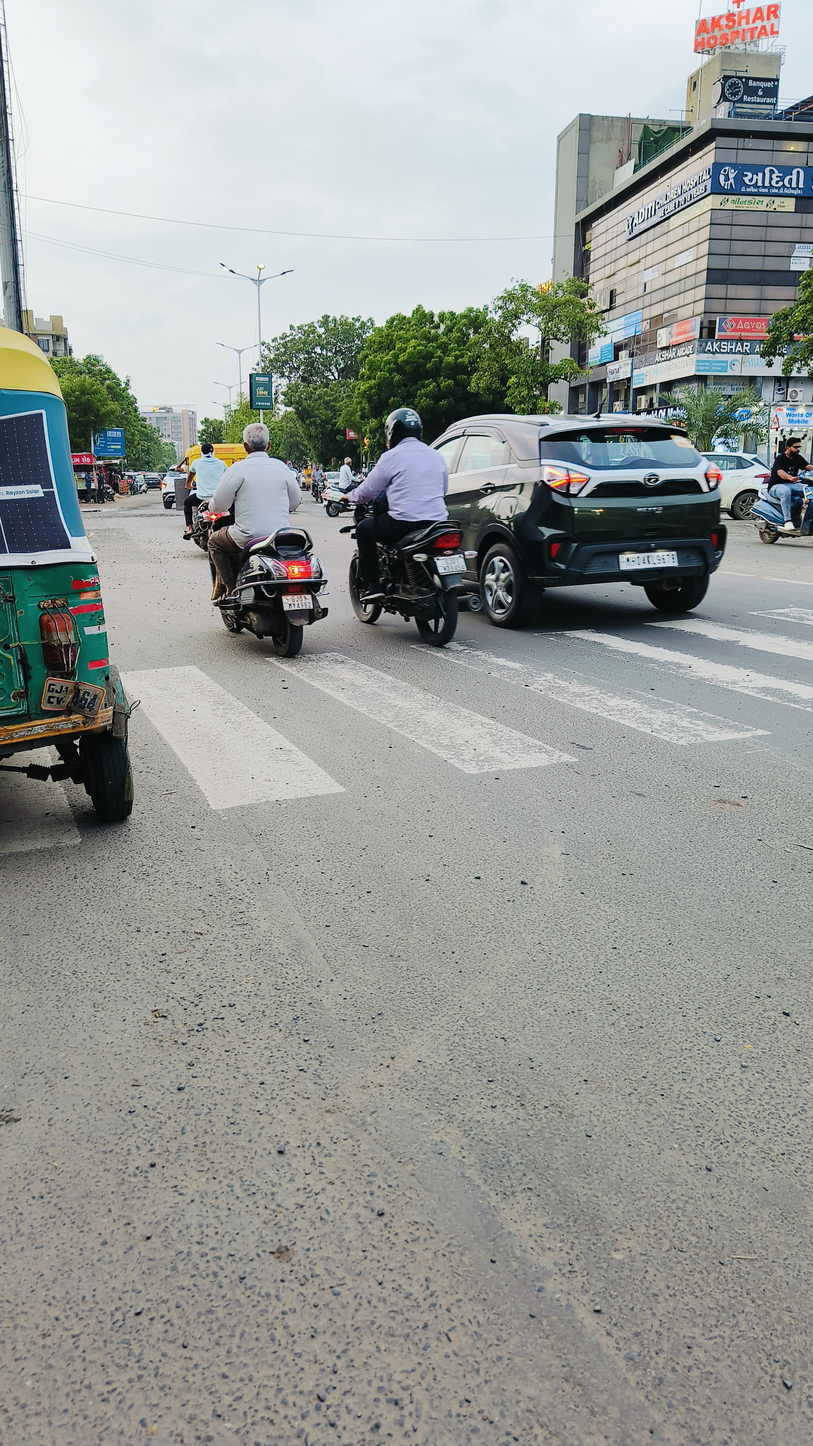BikeWithRider: (341, 406, 486, 646), (200, 423, 329, 661), (181, 440, 228, 550)
Helmet: (383, 407, 426, 445)
NoHelmet: (238, 421, 272, 456), (198, 438, 216, 461)
